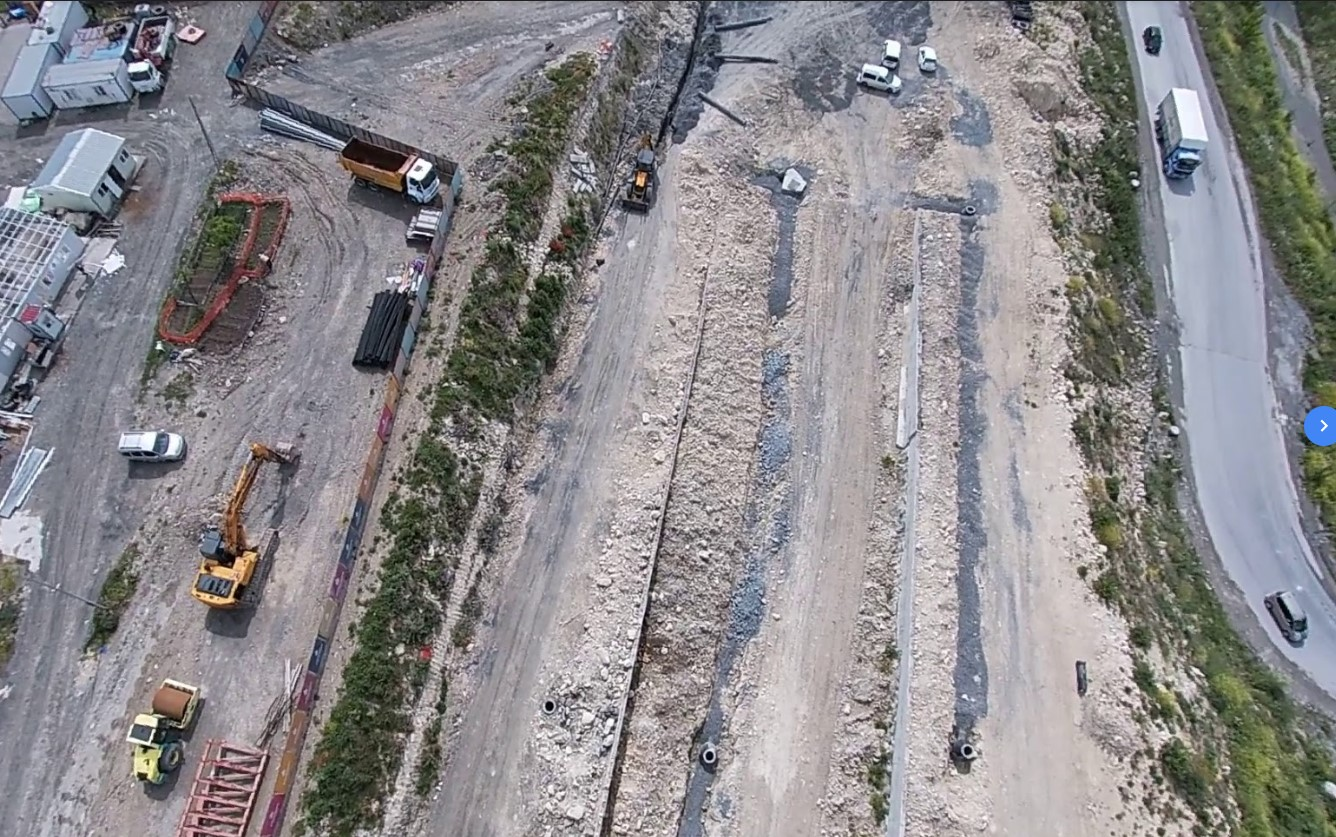araba: (1265, 589, 1312, 645), (116, 429, 183, 461), (854, 61, 906, 91), (1145, 25, 1166, 56), (884, 37, 902, 69), (917, 45, 936, 71)
ismakinasi: (187, 442, 301, 614)
kamyon: (338, 131, 441, 206), (124, 10, 180, 92), (1159, 84, 1207, 178)
traktor: (126, 676, 205, 785), (624, 149, 658, 212)
